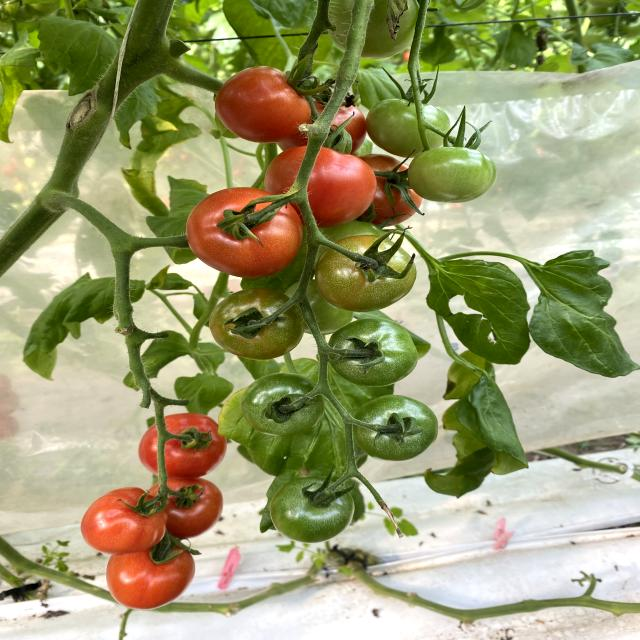ripe0: (315, 235, 417, 311), (209, 287, 304, 360), (353, 395, 439, 463), (331, 319, 418, 386), (270, 478, 355, 543), (407, 146, 497, 203), (241, 375, 322, 433), (368, 98, 451, 148)
ripe2: (186, 187, 304, 277), (215, 65, 312, 142), (298, 144, 376, 226), (140, 412, 228, 478), (82, 487, 165, 554), (106, 554, 195, 610)
